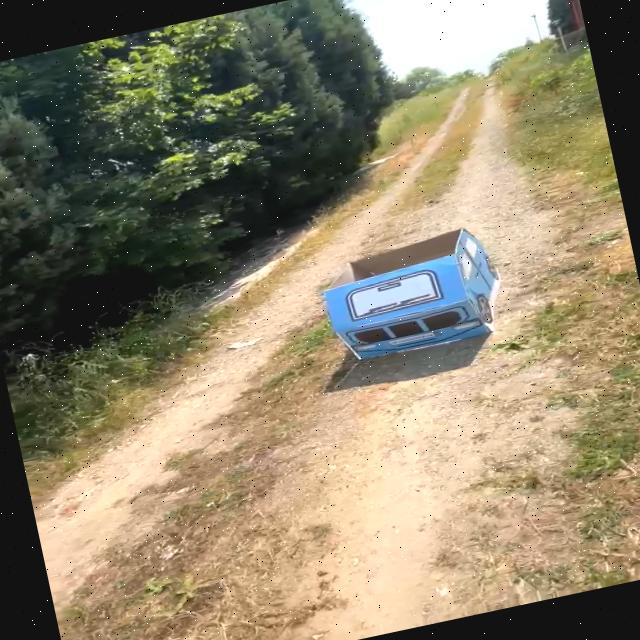blue_car: (289, 202, 541, 386)
